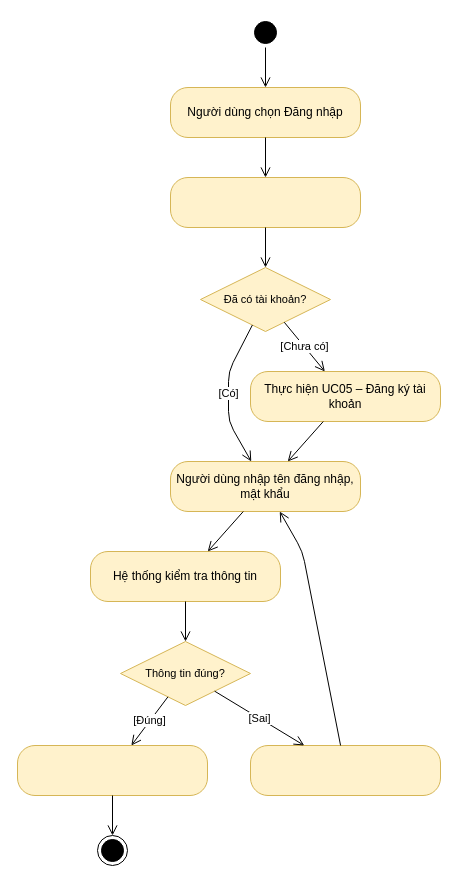
The diagram is 458 pixels wide and 883 high, and some of its shapes have lost their labels. The centre of each missing label's shape, as x and y in pixels:
"Hệ thống hiển thị form đăng nhập" goes at pixel 265 202.
"Hệ thống thông báo sai thông tin đăng nhập" goes at pixel 345 770.
"Hệ thống xác định quyền và hiển thị giao diện tương ứng" goes at pixel 112 770.
